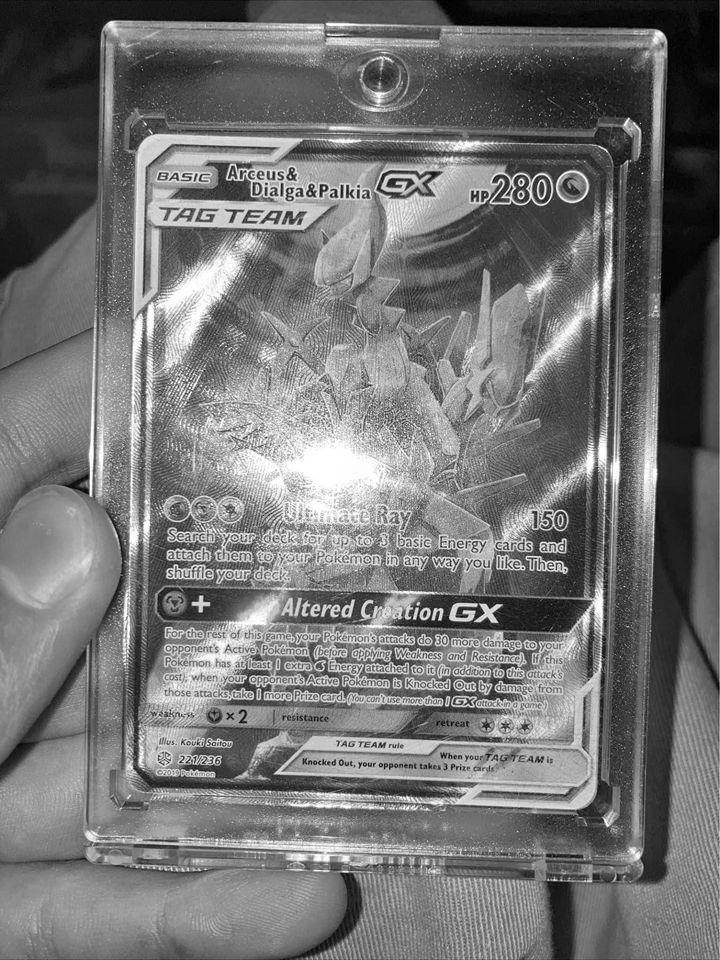card: (121, 131, 615, 817)
